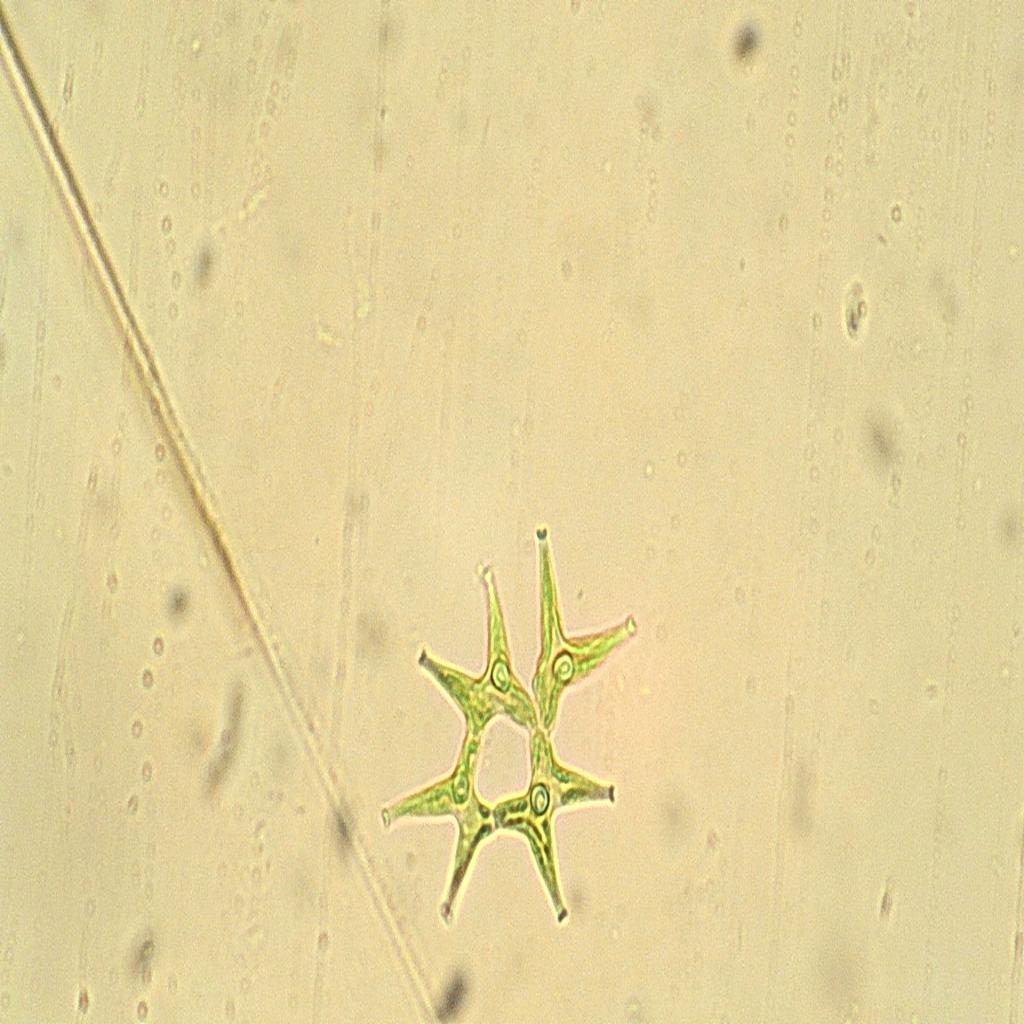Pediastrum_75FI: (371, 510, 646, 963)
